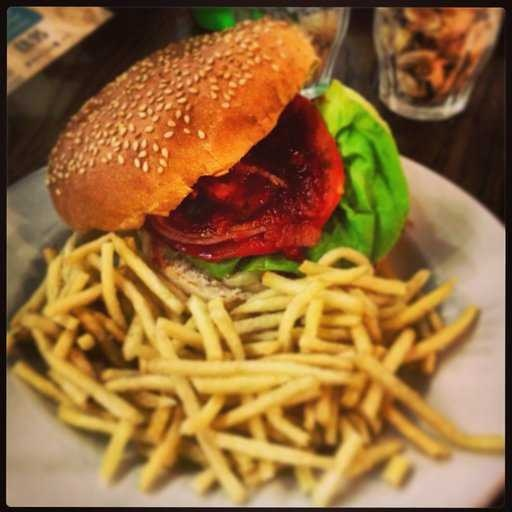hamburger: (32, 24, 399, 300)
